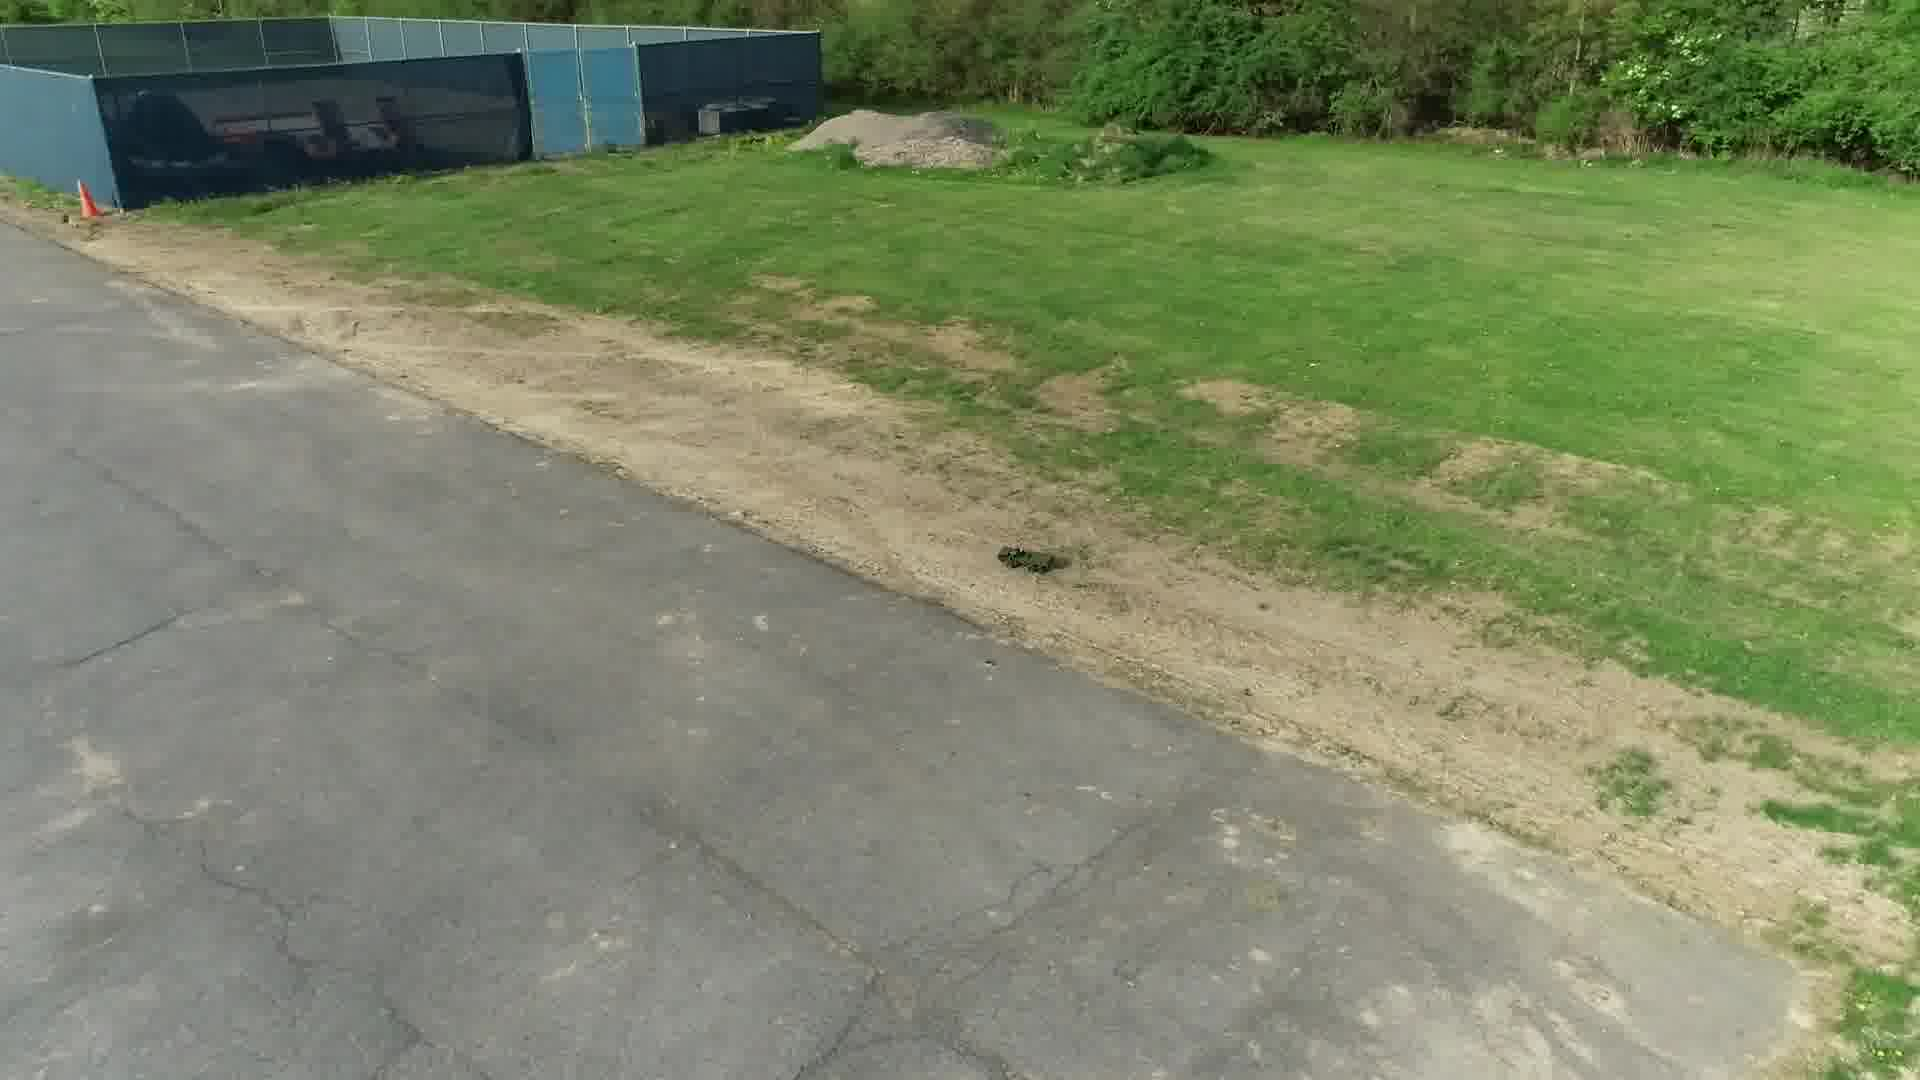transporter9: (996, 545, 1054, 575)
